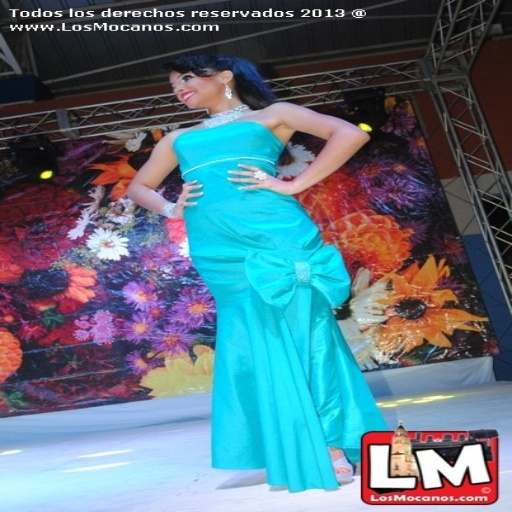hand: (224, 161, 292, 195), (168, 177, 207, 218)
